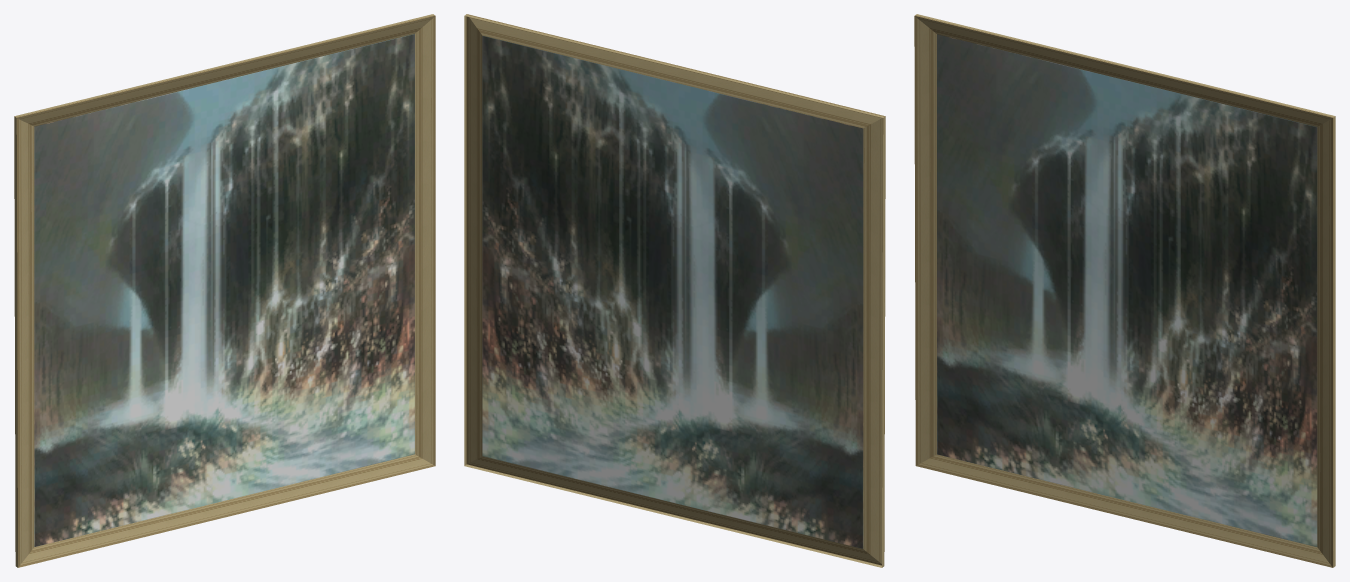
File: frn_all_painting_square_lg_s02.fbx
The picture shows the model from 3 angles, left to right: view 1: azimuth 30°, elevation 25°; view 2: azimuth 150°, elevation 25°; view 3: azimuth 330°, elevation 25°; orthographic projection.
Visible parts, largest first — view 1: mesh_node; view 2: mesh_node; view 3: mesh_node.
Boxes of the visible parts, left/top/right/bottom form: mesh_node: left=14, top=14, right=435, bottom=567; mesh_node: left=464, top=14, right=885, bottom=567; mesh_node: left=914, top=14, right=1335, bottom=567.
Bounding box in the file's own units: 2.43 × 2.5 × 0.0254.
2 materials, 2 textured.
